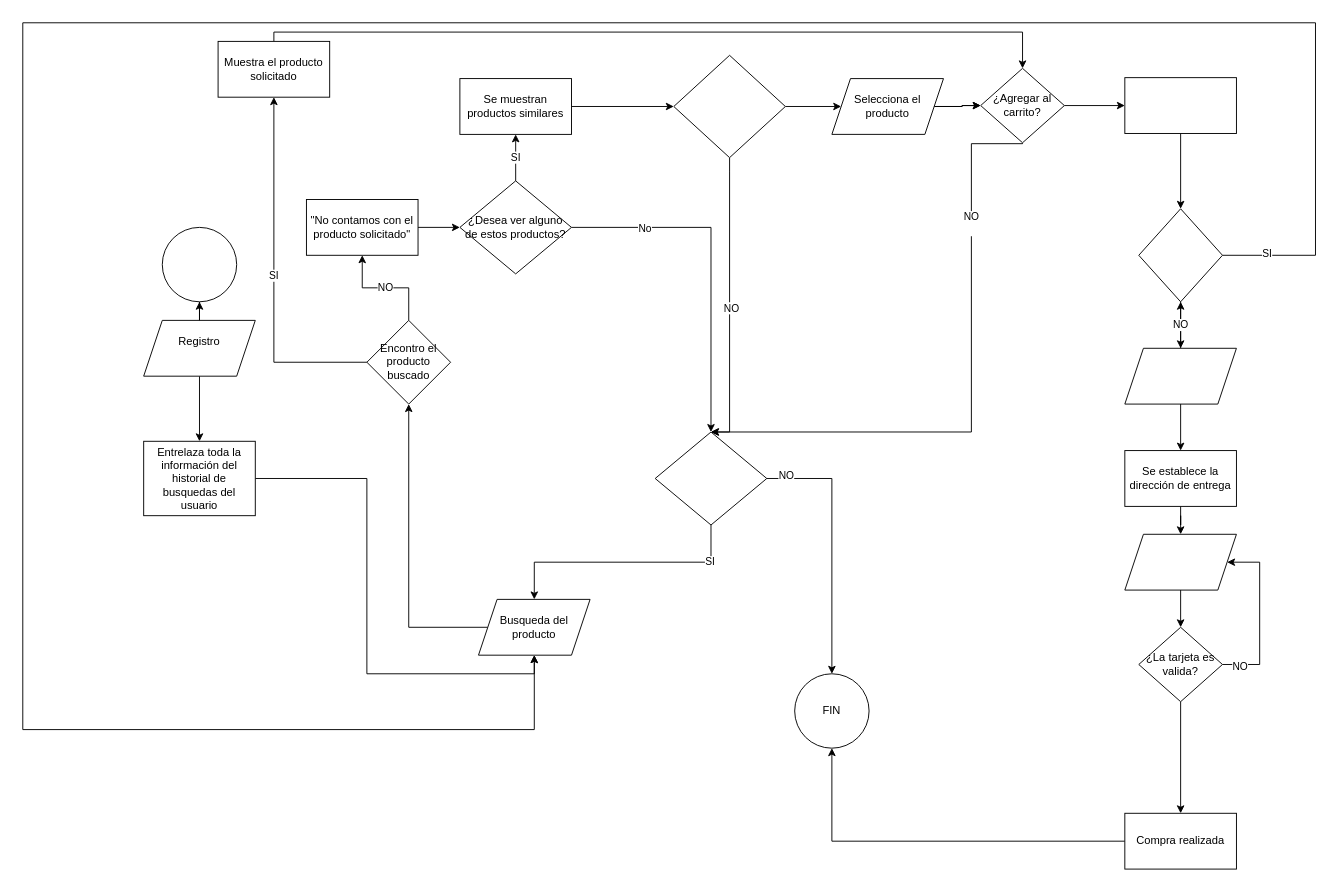
Some shapes in this 1339 by 885 pixel diagram are drawn without their labels. The shapes that lost their labels are listed below. From the top down, each one's box as (x1, y1, x2, y2) in pixels, then its label:
(673, 54, 785, 158): ¿Hay algún producto que le interese?
(1124, 77, 1236, 133): Se agrego el producto al carrito
(161, 226, 237, 302): Inicio
(1138, 208, 1222, 302): ¿Desea agregar otro producto?
(1124, 347, 1236, 404): Agregar Dirección de entrega
(654, 431, 767, 525): ¿Desea realizar otra busqueda?
(1124, 533, 1236, 590): Agregar Tarjeta de credito o debito
